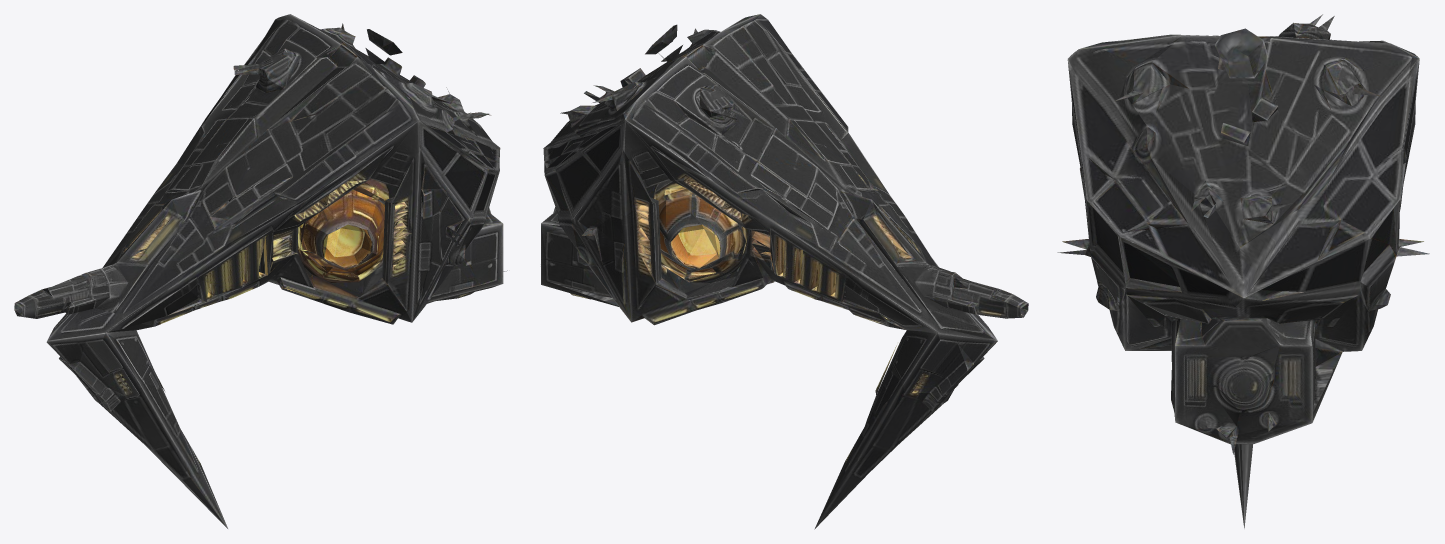
File: Boss7-v2.glb
3 renders of one model, left to right at view 1: azimuth 30°, elevation 25°; view 2: azimuth 150°, elevation 25°; view 3: azimuth 270°, elevation 25°, orthographic. The views are drawn at different scales.
Parts seen in each view (by area): view 1: output_unwrapped; view 2: output_unwrapped; view 3: output_unwrapped.
Part boxes in pixels (<box>): output_unwrapped: <box>14,14,507,528</box>; output_unwrapped: <box>541,14,1028,529</box>; output_unwrapped: <box>1057,14,1429,528</box>.
Bounding box in the file's own units: 1.89 × 1.72 × 0.9929.
1 material, 1 textured.
